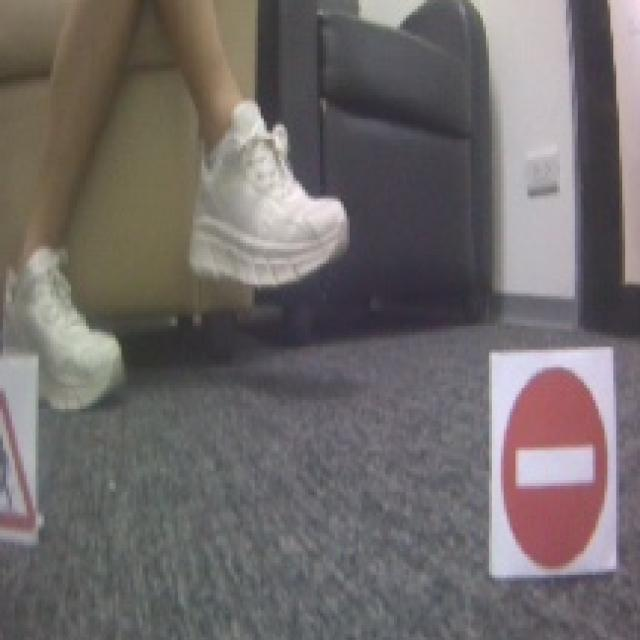DoNotEnterSign: (501, 364, 610, 571)
